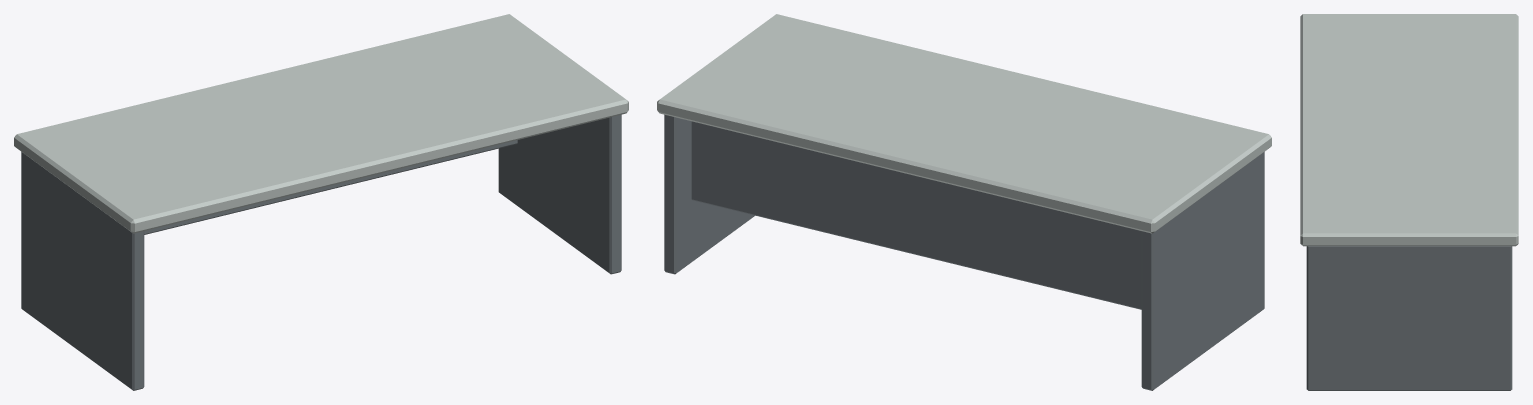
The model's file is MeetingTable.fbx.
The picture shows the model from 3 angles, left to right: view 1: azimuth 30°, elevation 25°; view 2: azimuth 150°, elevation 25°; view 3: azimuth 270°, elevation 25°; orthographic projection. The views are drawn at different scales.
Parts seen in each view (by area): view 1: MeetingTable; view 2: MeetingTable; view 3: MeetingTable.
Boxes of the visible parts, x1,y1,x2,y2 form: MeetingTable: [14, 14, 628, 390]; MeetingTable: [657, 14, 1271, 390]; MeetingTable: [1300, 14, 1518, 390].
Bounding box in the file's own units: 240 × 80.25 × 100.
1 material, 1 textured.
